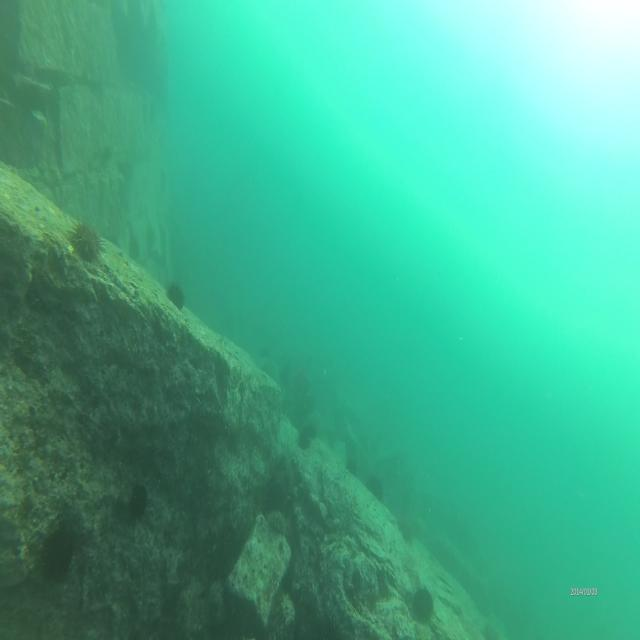echinus: (64, 214, 110, 268), (36, 526, 78, 583), (164, 273, 188, 314), (413, 580, 434, 622)
